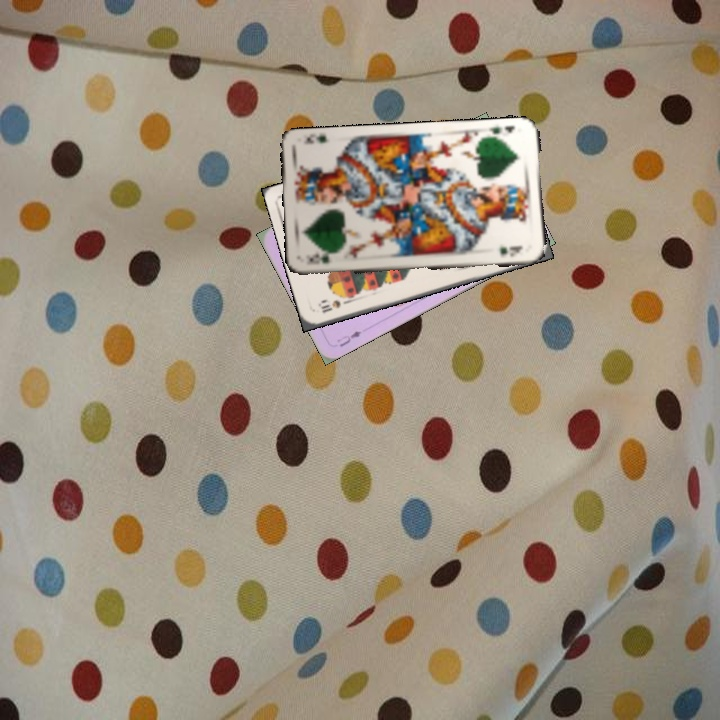EU: (333, 327, 364, 349)
GK: (484, 121, 517, 136), (305, 251, 333, 267)
S10: (315, 296, 353, 315)
